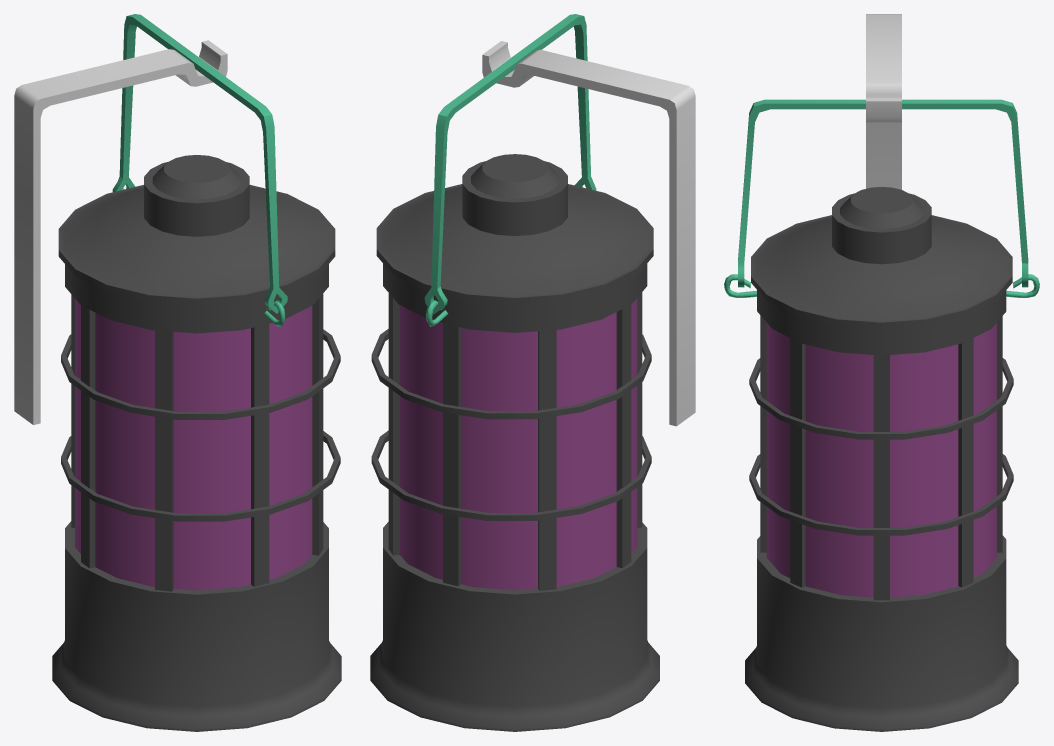
Rendered from Lantern.fbx.
The picture shows the model from 3 angles, left to right: view 1: azimuth 30°, elevation 25°; view 2: azimuth 150°, elevation 25°; view 3: azimuth 270°, elevation 25°; orthographic projection. The views are drawn at different scales.
Parts seen in each view (by area): view 1: Cylinder001, Box001; view 2: Cylinder001, Box001; view 3: Cylinder001, Box001.
Boxes of the visible parts, x1,y1,x2,y2 form: Cylinder001: (52, 14, 341, 731); Box001: (14, 40, 227, 424); Cylinder001: (370, 14, 659, 731); Box001: (482, 41, 695, 426); Cylinder001: (724, 99, 1039, 731); Box001: (866, 14, 901, 189).
Bounding box in the file's own units: 0.1888 × 0.3722 × 0.1827.
